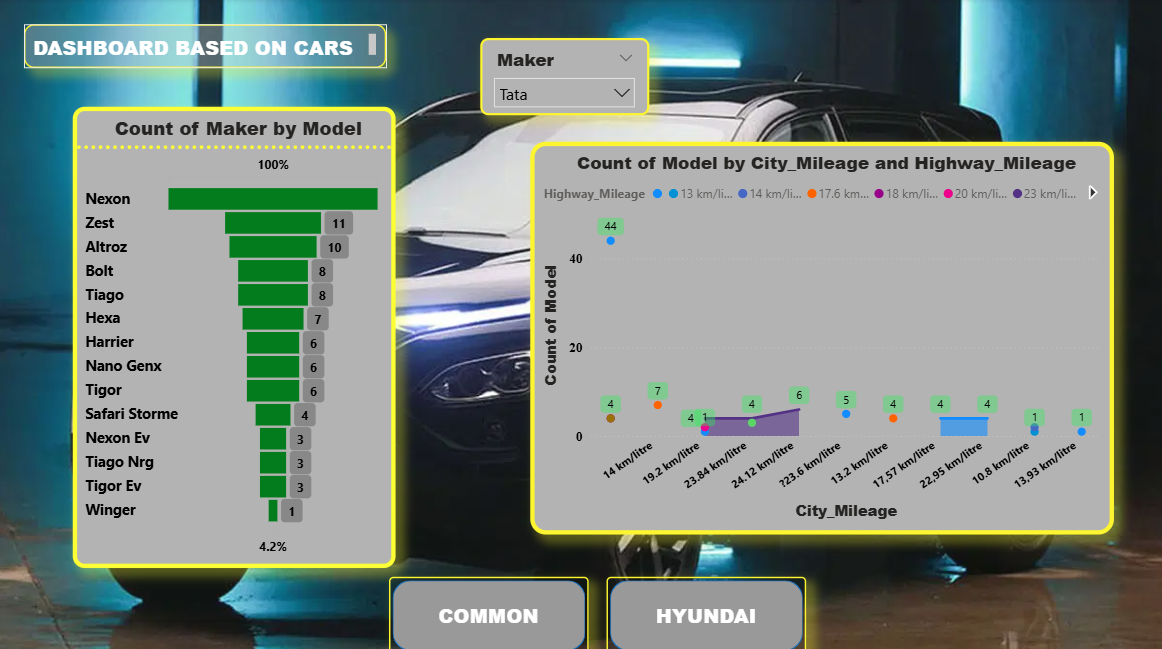

The dashboard page shown, as its layout file describes it:
{"tool":"powerbi","page":{"name":"TATA","canvas":[1280,720],"ordinal":2},"visuals":[{"type":"funnel","fields":{"Category":["cars_ds_final.Model"],"Y":["CountNonNull(cars_ds_final.Maker)"]},"box":[81,119.4,354,506.3],"z":0},{"type":"lineChart","fields":{"Category":["cars_ds_final.City_Mileage"],"Series":["cars_ds_final.Highway_Mileage"],"Y":["CountNonNull(cars_ds_final.Model)"]},"box":[583.2,157.8,640.8,430.9],"z":1000},{"type":"slicer","fields":{"Values":["cars_ds_final.Maker"]},"box":[528.3,43.9,185.2,85.1],"z":2000},{"type":"textbox","box":[27.4,28.8,397.9,48],"z":3000},{"type":"shape","box":[428.1,634.9,219.6,85.1],"z":4000},{"type":"shape","box":[666.9,635.3,219.6,85.1],"z":5000}]}

Visuals, with their boxes in screenshot pixels (x1, y1, x2, y2), scaled from the page's 1280x720 canvas onto the 1162x649 screenshot:
funnel - cars_ds_final.Model x CountNonNull(cars_ds_final.Maker): Rect(74, 108, 395, 564)
lineChart - cars_ds_final.City_Mileage x cars_ds_final.Highway_Mileage: Rect(529, 142, 1111, 531)
slicer - cars_ds_final.Maker: Rect(480, 40, 648, 116)
textbox: Rect(25, 26, 386, 69)
shape: Rect(389, 572, 588, 648)
shape: Rect(605, 573, 805, 648)
